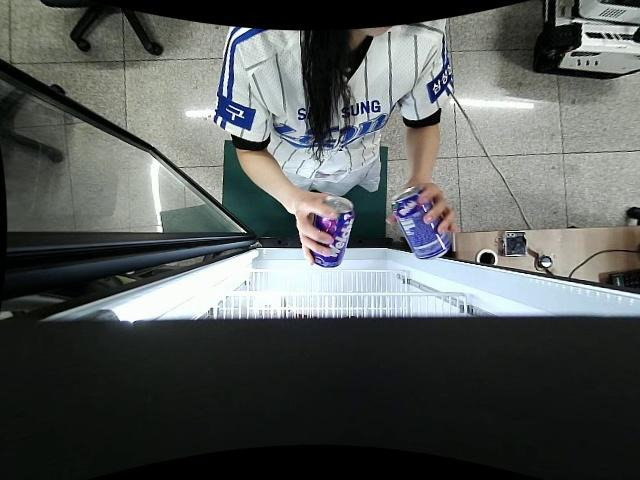00_hand: (385, 179, 462, 237), (291, 189, 339, 266)
14_welchsGrape: (389, 186, 453, 261), (309, 195, 355, 269)
